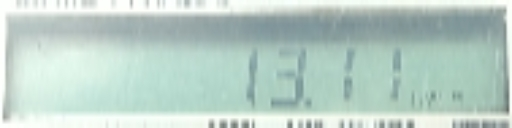1: (241, 42, 268, 105), (337, 51, 362, 103), (387, 47, 412, 99)
3: (273, 46, 305, 103)
d: (303, 99, 314, 110)
